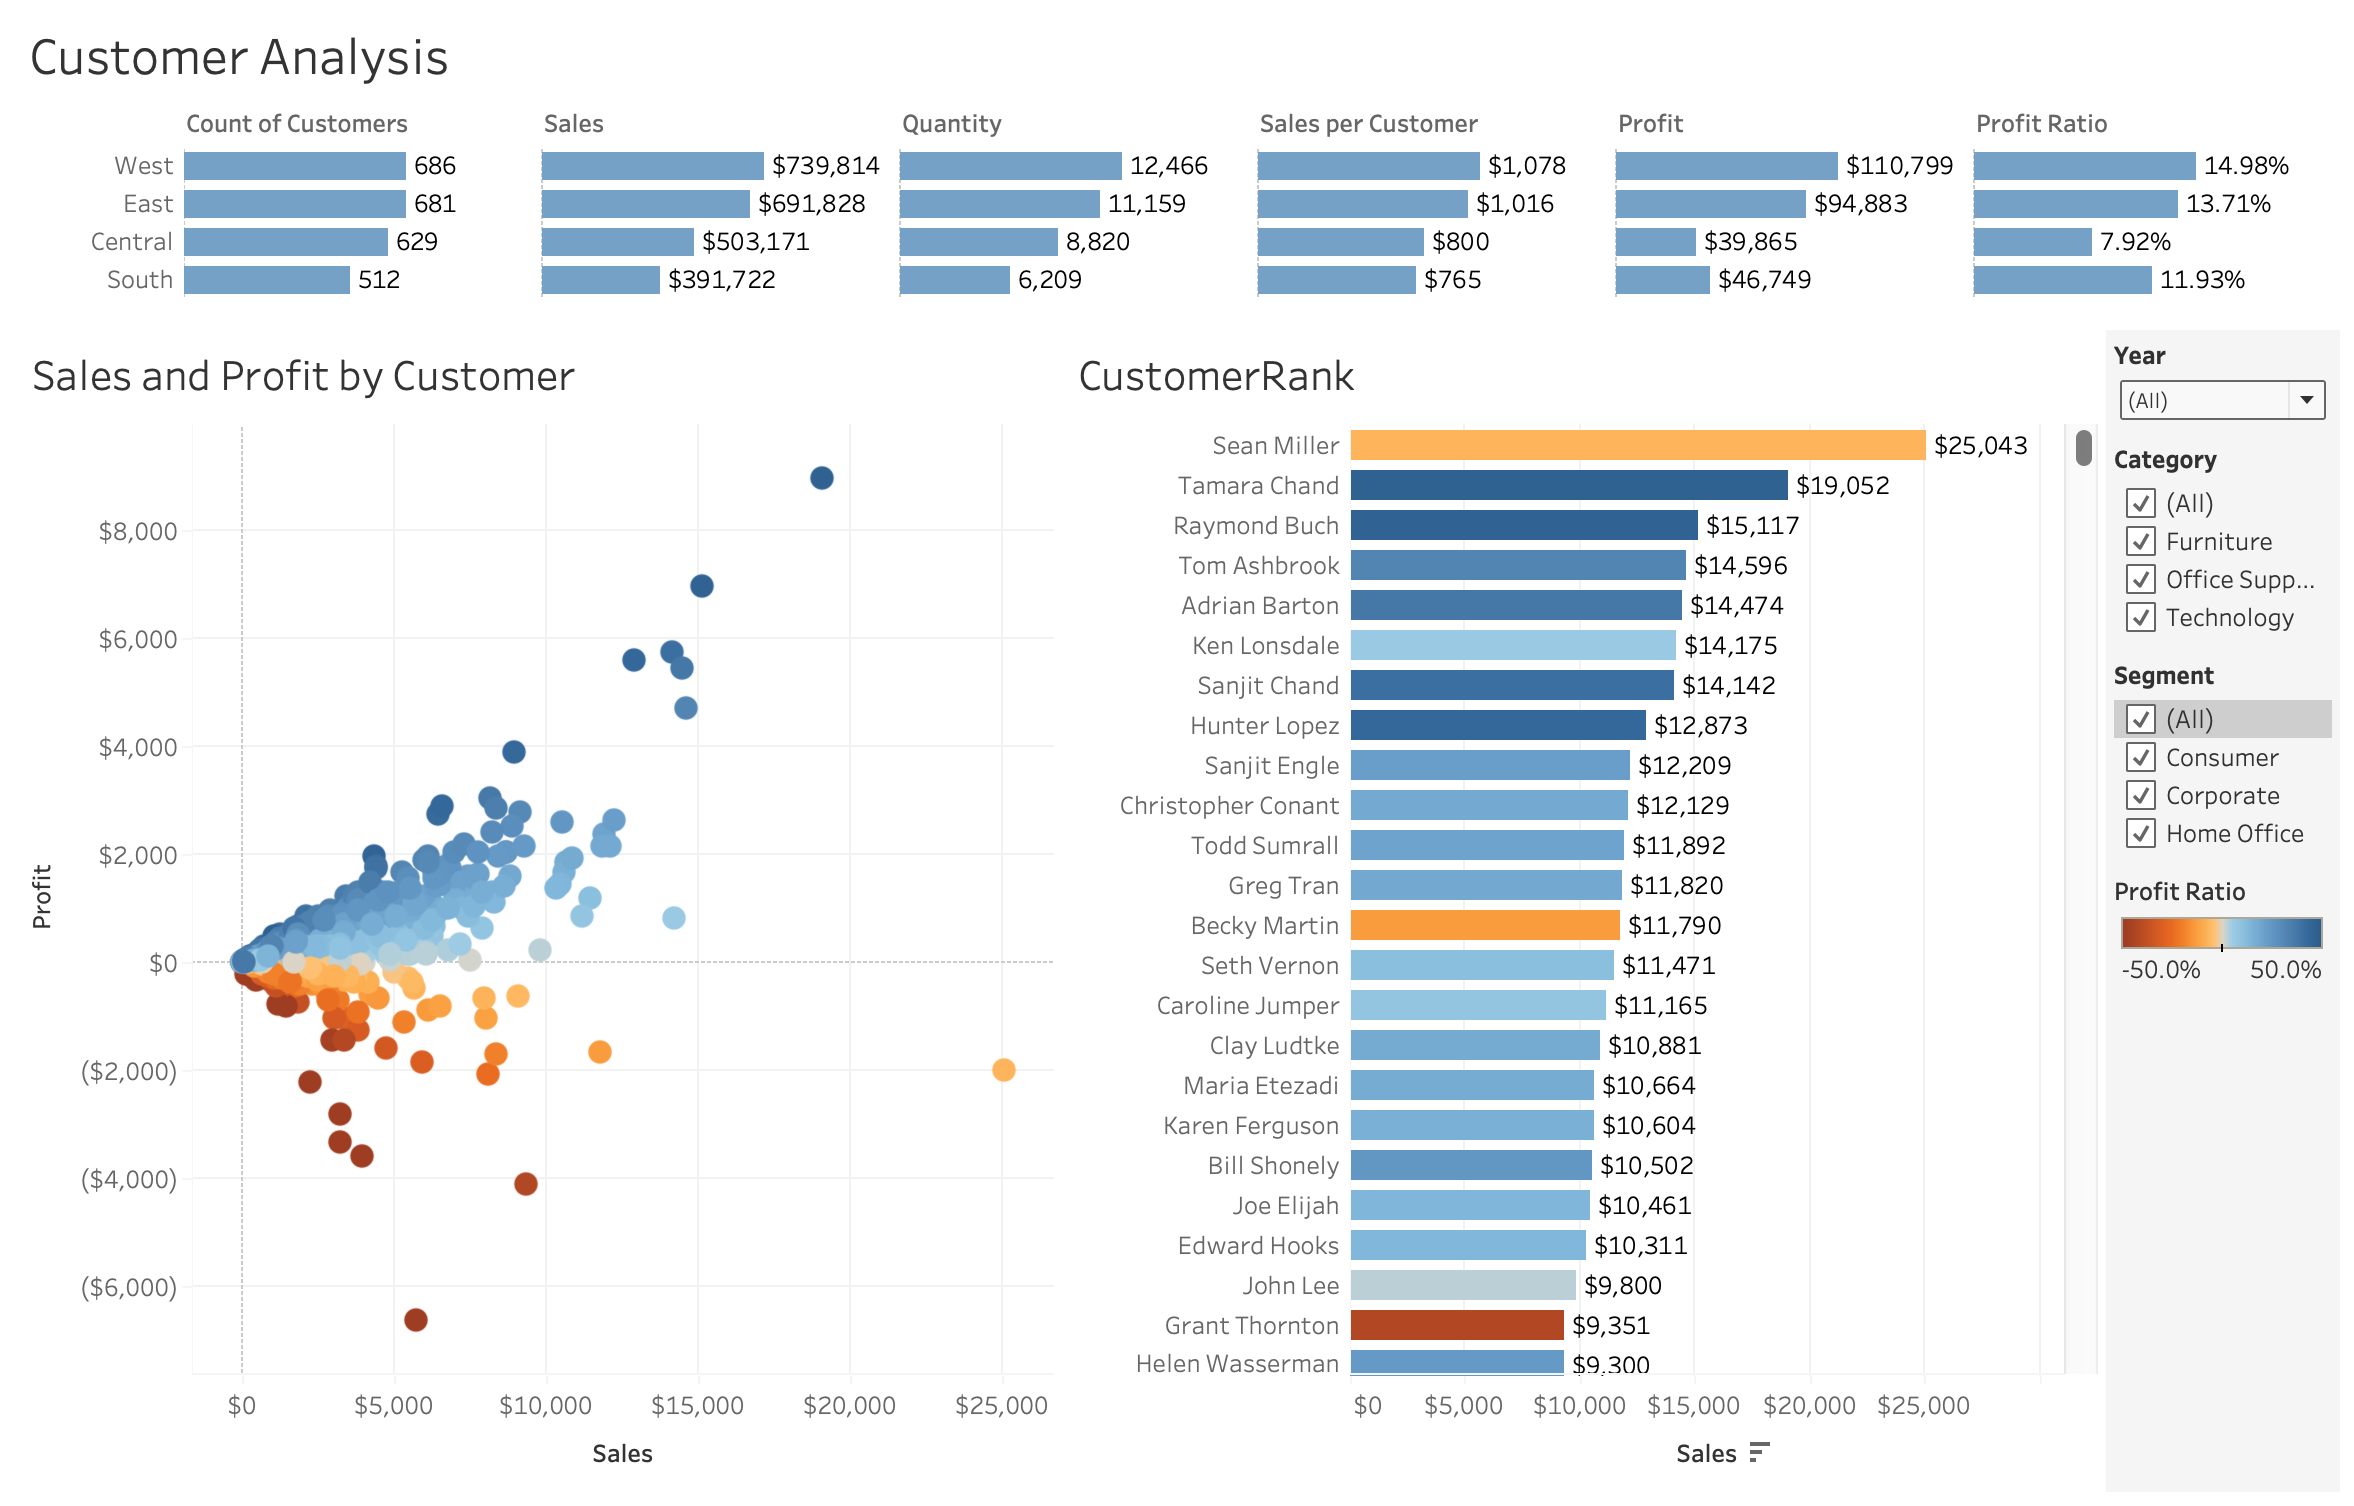

The page's visual inventory and layout, read from the dashboard file:
{"tool":"tableau","page":{"name":"Customer","canvas":[1000,1000],"units":"permille","ordinal":1},"visuals":[{"type":"title","box":[6.8,10.6,986.4,55.6]},{"type":"worksheet","title":"CustomerOverview","mark":"Automatic","rows":["Region"],"box":[6.8,66.2,986.4,153.6]},{"type":"worksheet","title":"CustomerScatter","mark":"Automatic","rows":["Profit"],"cols":["Sales"],"box":[6.8,219.9,444,769.5]},{"type":"worksheet","title":"CustomerRank","mark":"Automatic","rows":["Customer Name"],"cols":["Sales"],"box":[450.8,219.9,443.1,769.5]},{"type":"filter","title":"CustomerRank","param":"[Sample - Superstore].[yr:Order Date:ok]","box":[893.9,219.9,99.3,68.9]},{"type":"filter","title":"CustomerRank","param":"[Sample - Superstore].[none:Category:nk]","box":[893.9,288.8,99.3,143.1]},{"type":"filter","title":"CustomerRank","param":"[Sample - Superstore].[none:Segment:nk]","box":[893.9,431.8,99.3,143.1]},{"type":"legend","title":"CustomerRank","param":"[Sample - Superstore].[usr:Calculation_3004252807550980096:qk]","box":[893.9,574.9,99.3,86.1]}]}

Visuals, with their boxes on the dashboard's canvas, which has no fixed pixel size, in thousandths of its width and height (x1, y1, x2, y2). These are canvas units, not pixel positions in the 2354x1506 screenshot, which may show the page scaled, cropped or inside an application window:
title: detection(7, 11, 993, 66)
"CustomerOverview" worksheet: detection(7, 66, 993, 220)
"CustomerScatter" worksheet: detection(7, 220, 451, 989)
"CustomerRank" worksheet: detection(451, 220, 894, 989)
"CustomerRank" filter: detection(894, 220, 993, 289)
"CustomerRank" filter: detection(894, 289, 993, 432)
"CustomerRank" filter: detection(894, 432, 993, 575)
"CustomerRank" legend: detection(894, 575, 993, 661)
